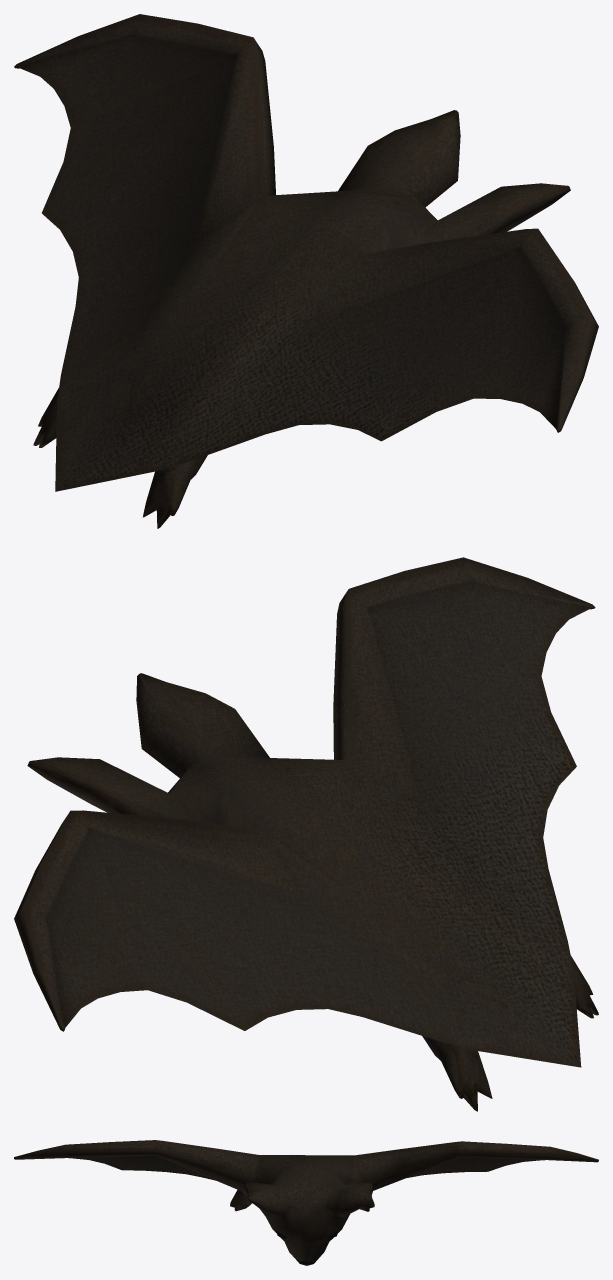
The model's file is bat.glb.
3 renders of one model, top to bottom at view 1: azimuth 30°, elevation 25°; view 2: azimuth 150°, elevation 25°; view 3: azimuth 270°, elevation 25°, orthographic. The views are drawn at different scales.
Parts seen in each view (by area): view 1: tripo_node_3fe4375b-cd87-41bf-ae3c-f5e895406c4b; view 2: tripo_node_3fe4375b-cd87-41bf-ae3c-f5e895406c4b; view 3: tripo_node_3fe4375b-cd87-41bf-ae3c-f5e895406c4b.
Part boxes in pixels (x1=…): tripo_node_3fe4375b-cd87-41bf-ae3c-f5e895406c4b: x1=14, y1=14, x2=598, y2=528; tripo_node_3fe4375b-cd87-41bf-ae3c-f5e895406c4b: x1=14, y1=557, x2=598, y2=1111; tripo_node_3fe4375b-cd87-41bf-ae3c-f5e895406c4b: x1=14, y1=1140, x2=598, y2=1265.
Bounding box in the file's own units: 0.287 × 0.1644 × 0.556.
1 material, 1 textured.
